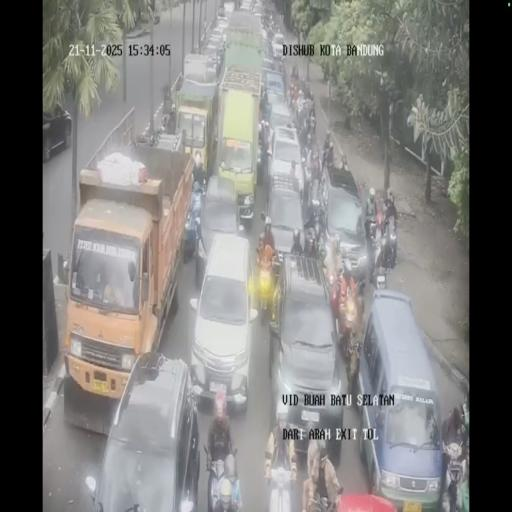car: (356, 287, 443, 500), (90, 350, 200, 508), (268, 256, 342, 454), (322, 165, 372, 284), (198, 172, 244, 270), (263, 178, 306, 270), (41, 107, 72, 163), (267, 99, 295, 143), (203, 40, 224, 77), (259, 26, 271, 58), (271, 31, 285, 58), (261, 54, 275, 76), (215, 7, 229, 24), (252, 5, 264, 21), (239, 0, 253, 13)
motorcycle: (205, 443, 241, 510), (264, 449, 298, 512), (440, 442, 468, 510), (369, 206, 387, 272), (306, 175, 326, 232), (256, 259, 274, 318), (308, 108, 316, 136)
truck: (172, 74, 218, 186), (222, 8, 264, 79)
